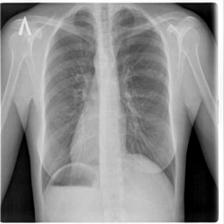tuberculosis: (38, 4, 178, 200)
